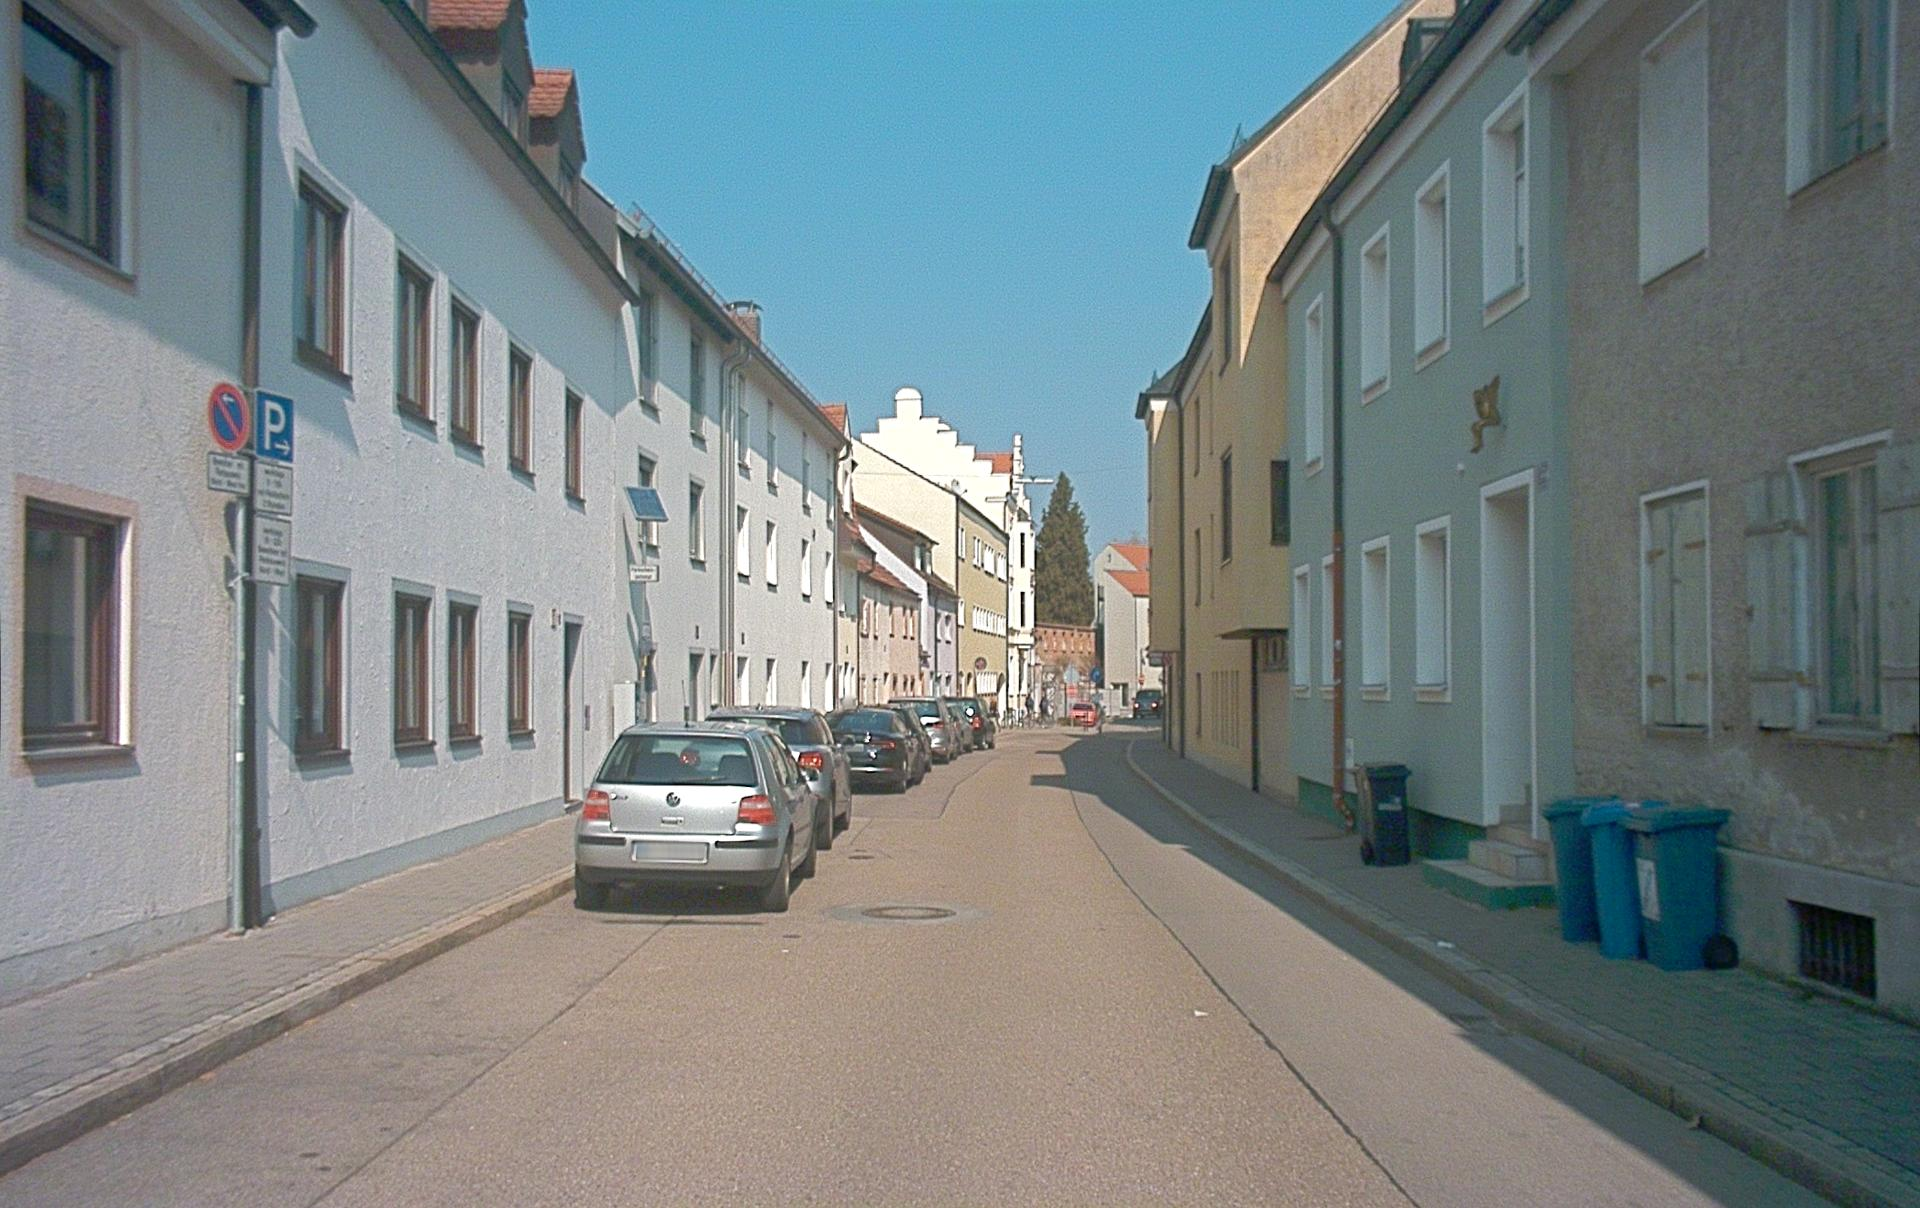car: (573, 721, 818, 913), (704, 706, 853, 850), (828, 706, 928, 793), (888, 697, 959, 764), (946, 697, 996, 750), (1133, 689, 1162, 720), (1070, 701, 1098, 726)
